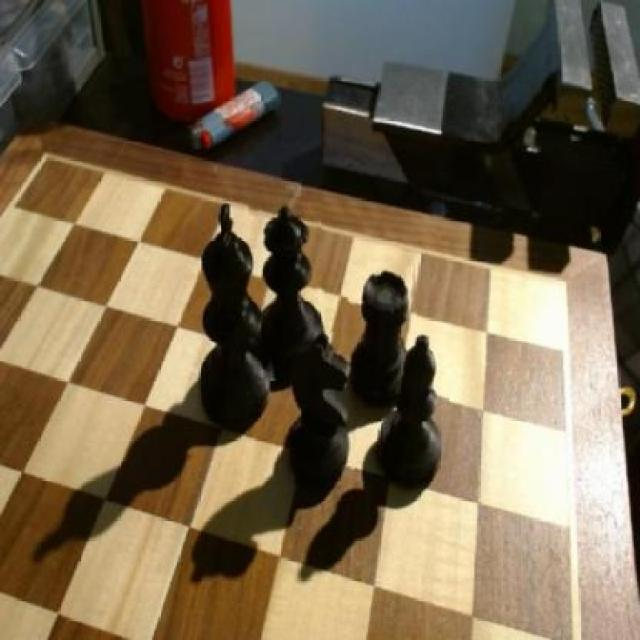bishop: (377, 334, 449, 484)
black-bishop: (199, 200, 273, 425)
black-king: (289, 331, 358, 486)
black-pawn: (251, 198, 326, 381)
black-queen: (349, 268, 420, 408)
